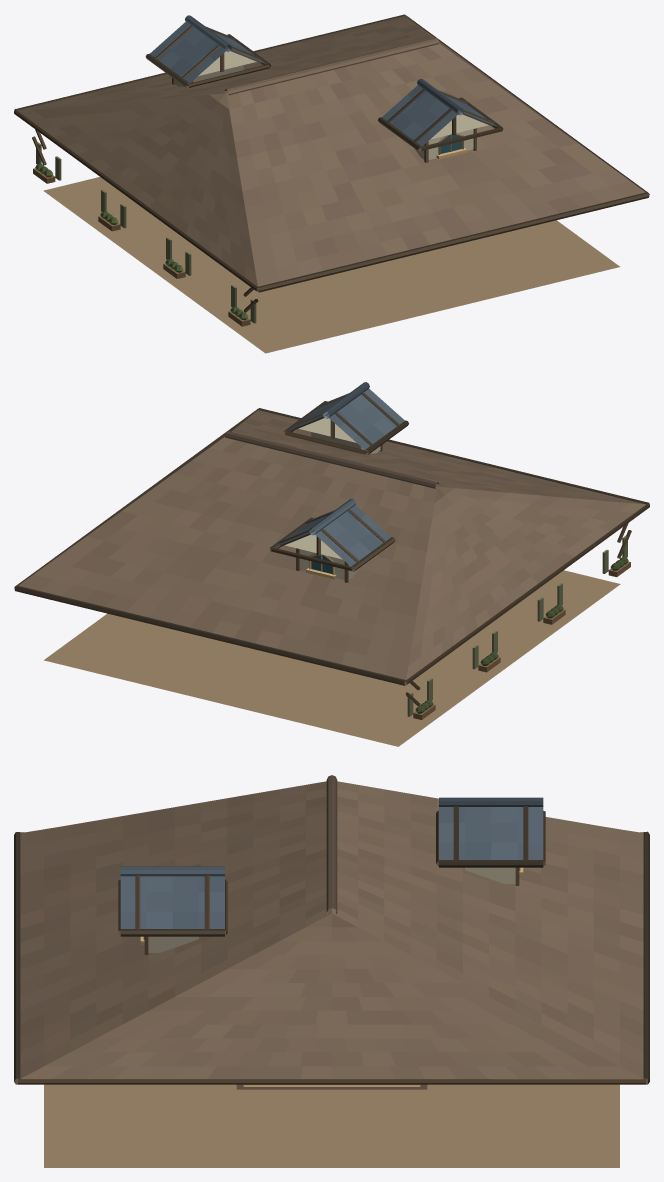
3 views of the same model, one above another, from view 1: azimuth 30°, elevation 25°; view 2: azimuth 150°, elevation 25°; view 3: azimuth 270°, elevation 25° (orthographic). The views are drawn at different scales.
Visible parts, largest first — view 1: 2c5880dbc5e232667e929efa166fdd165dfbd7188a63fa9f2dc84039d437; view 2: 2c5880dbc5e232667e929efa166fdd165dfbd7188a63fa9f2dc84039d437; view 3: 2c5880dbc5e232667e929efa166fdd165dfbd7188a63fa9f2dc84039d437.
Boxes of the visible parts, left/top/right/bottom form: 2c5880dbc5e232667e929efa166fdd165dfbd7188a63fa9f2dc84039d437: left=14, top=14, right=649, bottom=353; 2c5880dbc5e232667e929efa166fdd165dfbd7188a63fa9f2dc84039d437: left=14, top=382, right=649, bottom=746; 2c5880dbc5e232667e929efa166fdd165dfbd7188a63fa9f2dc84039d437: left=14, top=775, right=649, bottom=1167.
Size of the model in its own units: 12.97 by 5.32 by 14.02.
6 materials, 1 textured.
